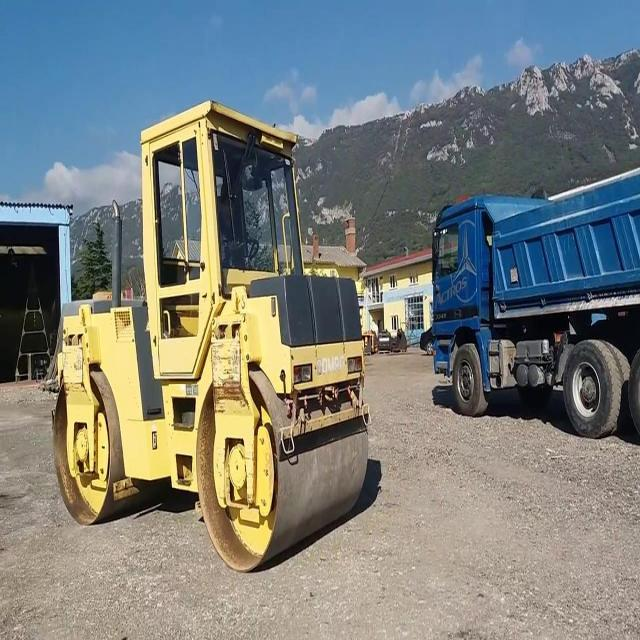Dump Truck: (428, 183, 640, 436)
Roller: (52, 101, 365, 574)
